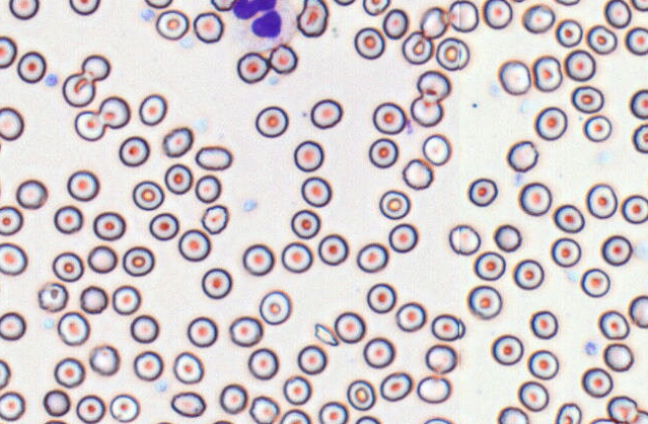GRAN: (219, 0, 298, 54)
PLT: (583, 339, 600, 357), (44, 72, 59, 87)
RBC: (467, 284, 502, 319), (518, 181, 552, 216), (498, 59, 531, 95), (258, 289, 291, 325), (62, 72, 95, 107), (586, 182, 617, 219), (435, 37, 469, 70), (372, 101, 406, 134), (534, 106, 567, 140), (228, 315, 263, 347), (532, 55, 562, 92), (178, 228, 211, 261), (416, 70, 450, 102), (401, 30, 433, 64), (57, 311, 89, 345), (254, 105, 288, 137), (98, 95, 130, 128), (410, 95, 443, 127), (236, 51, 269, 83), (66, 169, 99, 201), (353, 26, 385, 59), (242, 243, 274, 276), (155, 9, 189, 40), (506, 140, 538, 172), (564, 49, 596, 81), (362, 336, 394, 368), (333, 311, 365, 343), (15, 178, 48, 209), (293, 139, 324, 172), (424, 343, 457, 374), (247, 347, 278, 380), (88, 344, 119, 376), (402, 158, 433, 190), (527, 349, 559, 380), (201, 267, 232, 299), (122, 245, 154, 276), (491, 334, 523, 365), (513, 258, 544, 290), (281, 241, 312, 273), (601, 234, 632, 266), (310, 98, 342, 129), (317, 233, 348, 265), (448, 224, 480, 255), (16, 50, 46, 83), (522, 3, 555, 33), (173, 351, 203, 384), (379, 371, 412, 401), (194, 145, 232, 171), (416, 375, 451, 403), (74, 110, 105, 141), (162, 126, 193, 157), (118, 135, 149, 166), (37, 281, 68, 312), (517, 380, 548, 411), (53, 357, 84, 388), (598, 309, 629, 340), (52, 251, 83, 282), (300, 176, 331, 207), (395, 301, 426, 332), (186, 316, 217, 347), (132, 180, 164, 210), (193, 11, 223, 43), (553, 203, 585, 233), (448, 0, 478, 32), (581, 367, 613, 397), (356, 242, 388, 272), (378, 189, 410, 219), (138, 93, 167, 126), (92, 211, 125, 240), (570, 85, 604, 113), (111, 284, 141, 315), (586, 24, 617, 54), (133, 350, 163, 381), (603, 342, 634, 372), (296, 344, 326, 375), (290, 208, 320, 239), (366, 282, 396, 313), (550, 237, 581, 267), (368, 137, 398, 168), (422, 133, 451, 165), (473, 251, 505, 280), (431, 313, 464, 341), (170, 391, 205, 417), (53, 204, 83, 234), (580, 267, 610, 297), (388, 223, 418, 253), (268, 43, 297, 74), (109, 393, 140, 422), (346, 379, 375, 410), (606, 395, 638, 423), (0, 242, 27, 275), (87, 244, 117, 273), (282, 375, 311, 405), (482, 0, 512, 29), (467, 177, 497, 206), (164, 163, 192, 194), (148, 212, 179, 240), (219, 383, 247, 414), (79, 285, 108, 314), (76, 394, 105, 423), (249, 395, 279, 423), (0, 106, 24, 140), (130, 314, 158, 343), (493, 223, 521, 252), (530, 310, 558, 339), (583, 114, 612, 142), (201, 204, 228, 234), (382, 8, 408, 39), (81, 54, 110, 81), (194, 174, 221, 203), (555, 18, 582, 47), (621, 194, 647, 224), (42, 389, 70, 416), (604, 0, 631, 28), (0, 311, 26, 340), (0, 391, 25, 421), (0, 205, 23, 235), (318, 401, 348, 423), (628, 294, 647, 328), (625, 26, 647, 55), (9, 0, 39, 20), (554, 402, 581, 423), (0, 35, 17, 68), (629, 88, 647, 119), (497, 406, 528, 423), (68, 0, 100, 15), (279, 408, 310, 423), (632, 123, 647, 153), (362, 0, 390, 16), (0, 358, 10, 389), (210, 0, 235, 11), (144, 0, 172, 8), (354, 415, 381, 423), (423, 416, 453, 423), (631, 410, 647, 423), (631, 0, 647, 11), (588, 417, 616, 423), (554, 0, 580, 6), (333, 0, 355, 6), (43, 418, 68, 423), (152, 420, 176, 424), (211, 419, 233, 423), (0, 172, 3, 201), (0, 136, 3, 164), (509, 0, 528, 3), (0, 277, 2, 304)
Schistocyte: (295, 0, 329, 39), (420, 6, 447, 39), (313, 321, 340, 347)
